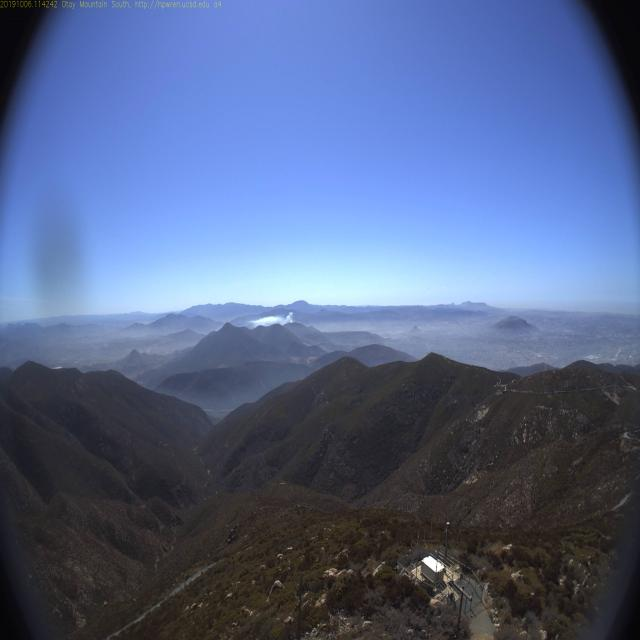smoke: (246, 312, 292, 331)
